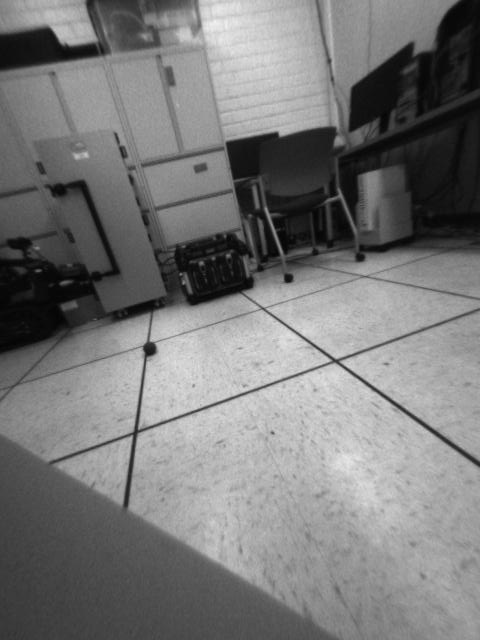dogtoy: (135, 335, 164, 359)
